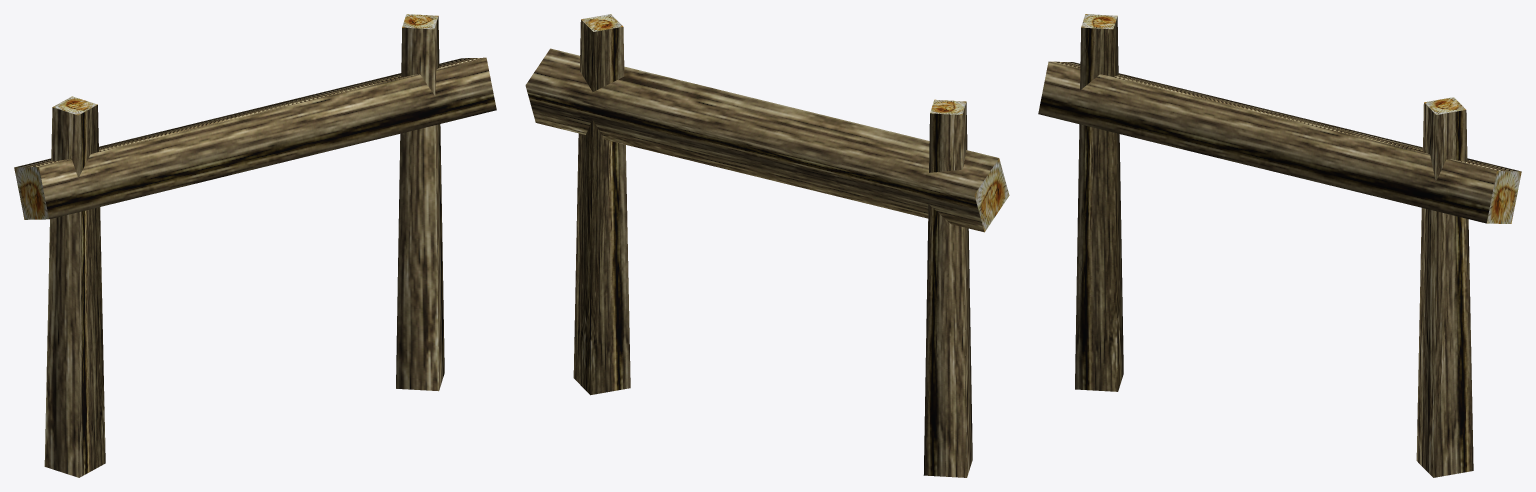
The model's file is WoodFence01.FBX.
3 views of the same model, side by side, from view 1: azimuth 30°, elevation 25°; view 2: azimuth 150°, elevation 25°; view 3: azimuth 330°, elevation 25° (orthographic).
Parts seen in each view (by area): view 1: WoodFence01; view 2: WoodFence01; view 3: WoodFence01.
Part boxes in pixels (bbox=[...]): WoodFence01: bbox=[14, 14, 496, 477]; WoodFence01: bbox=[525, 14, 1009, 477]; WoodFence01: bbox=[1038, 14, 1521, 477].
Bounding box in the file's own units: 182 × 140 × 24.75.
